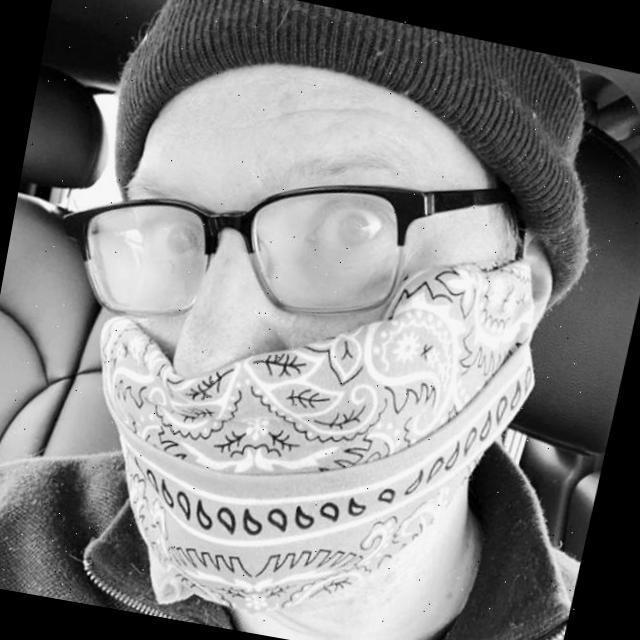hairnet: (90, 273, 548, 581)
